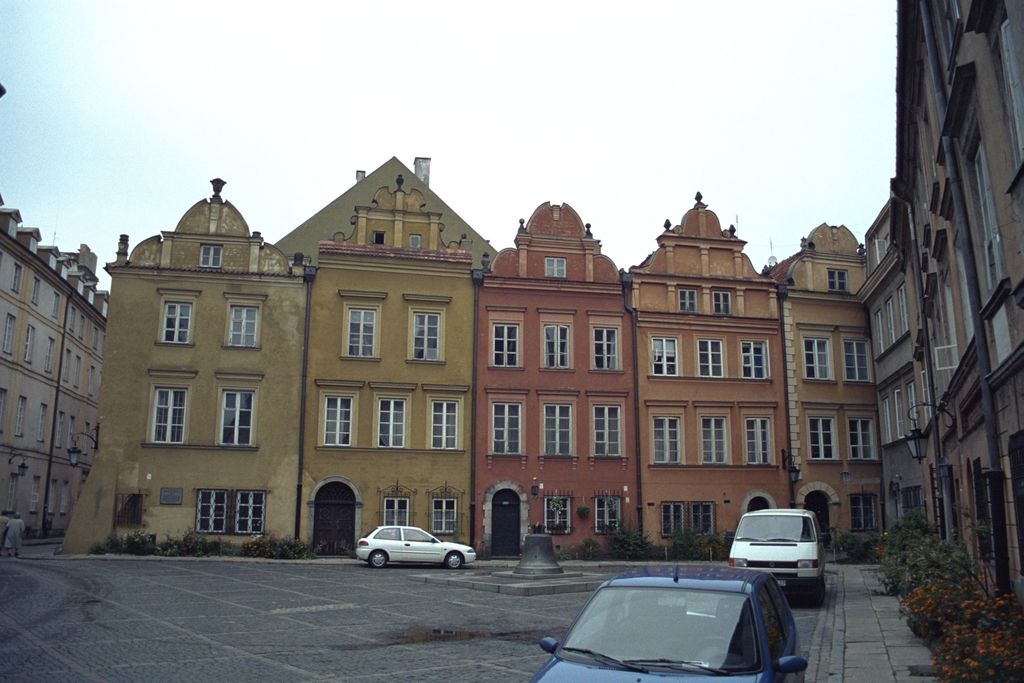Car: (531, 567, 807, 682), (355, 525, 479, 571)
